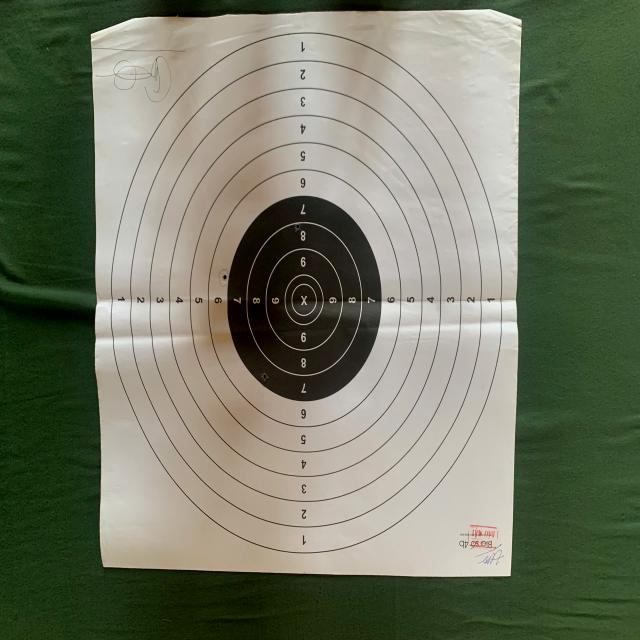bullet: (262, 374, 268, 381), (223, 273, 227, 280), (296, 224, 300, 231)
target: (92, 10, 522, 576)
